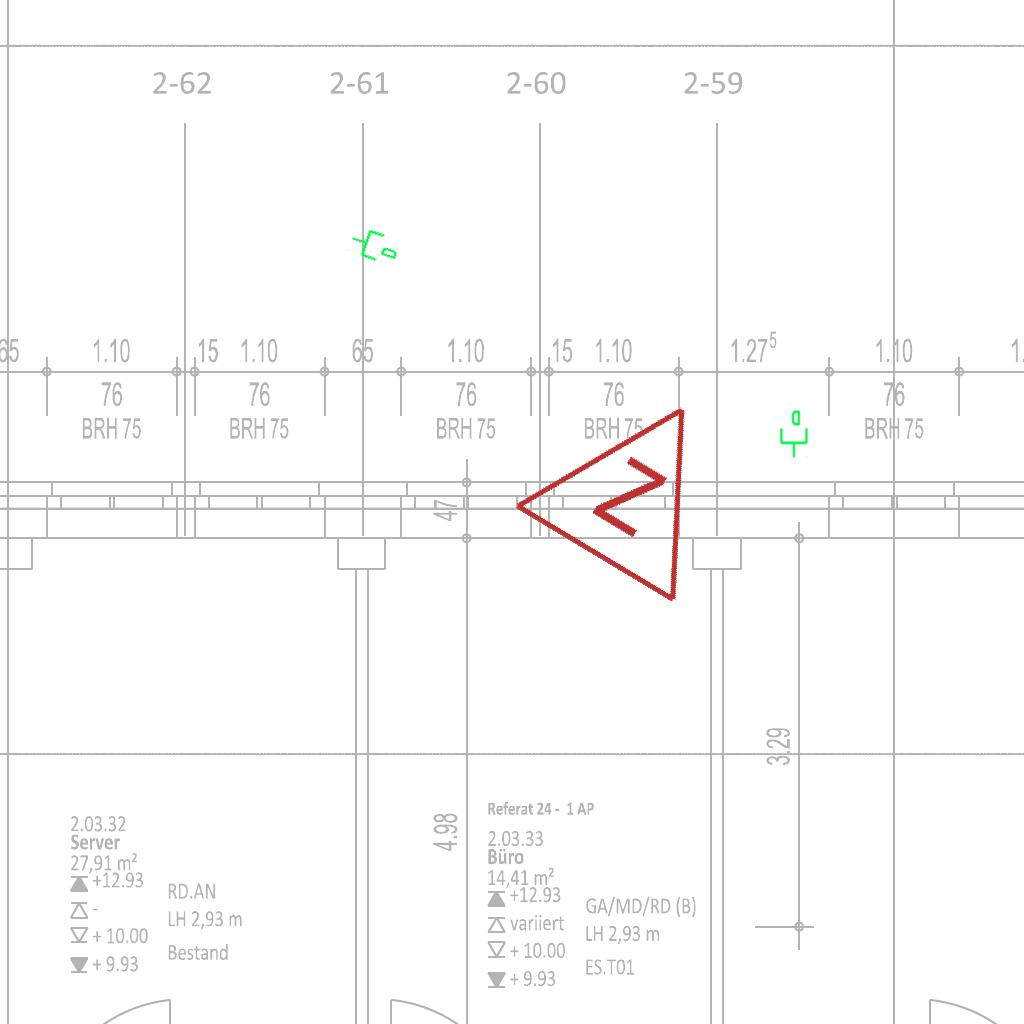Datenanschluss_einfach: (345, 220, 405, 270), (776, 409, 810, 459)
Zimmersignalleuchte: (500, 344, 772, 618)
